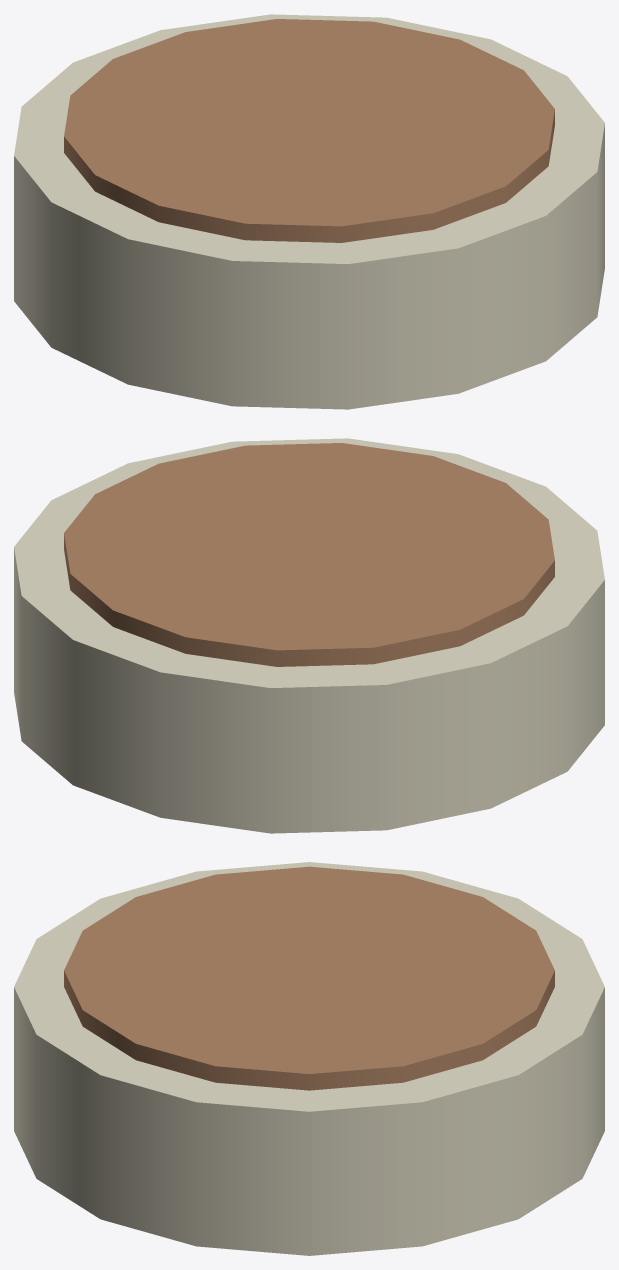
File: survival-food-and-preservation-pressed-grain-cake-cc27e11b__21738.glb
The picture shows the model from 3 angles, top to bottom: view 1: azimuth 30°, elevation 25°; view 2: azimuth 150°, elevation 25°; view 3: azimuth 270°, elevation 25°; orthographic projection.
Visible parts, largest first — view 1: pressed-grain-cake; view 2: pressed-grain-cake; view 3: pressed-grain-cake.
Part boxes in pixels (left/top/right/bottom): pressed-grain-cake: left=14, top=14, right=604, bottom=409; pressed-grain-cake: left=14, top=438, right=604, bottom=833; pressed-grain-cake: left=14, top=862, right=604, bottom=1255.
Size of the model in its own units: 0.13 by 0.039 by 0.13.
